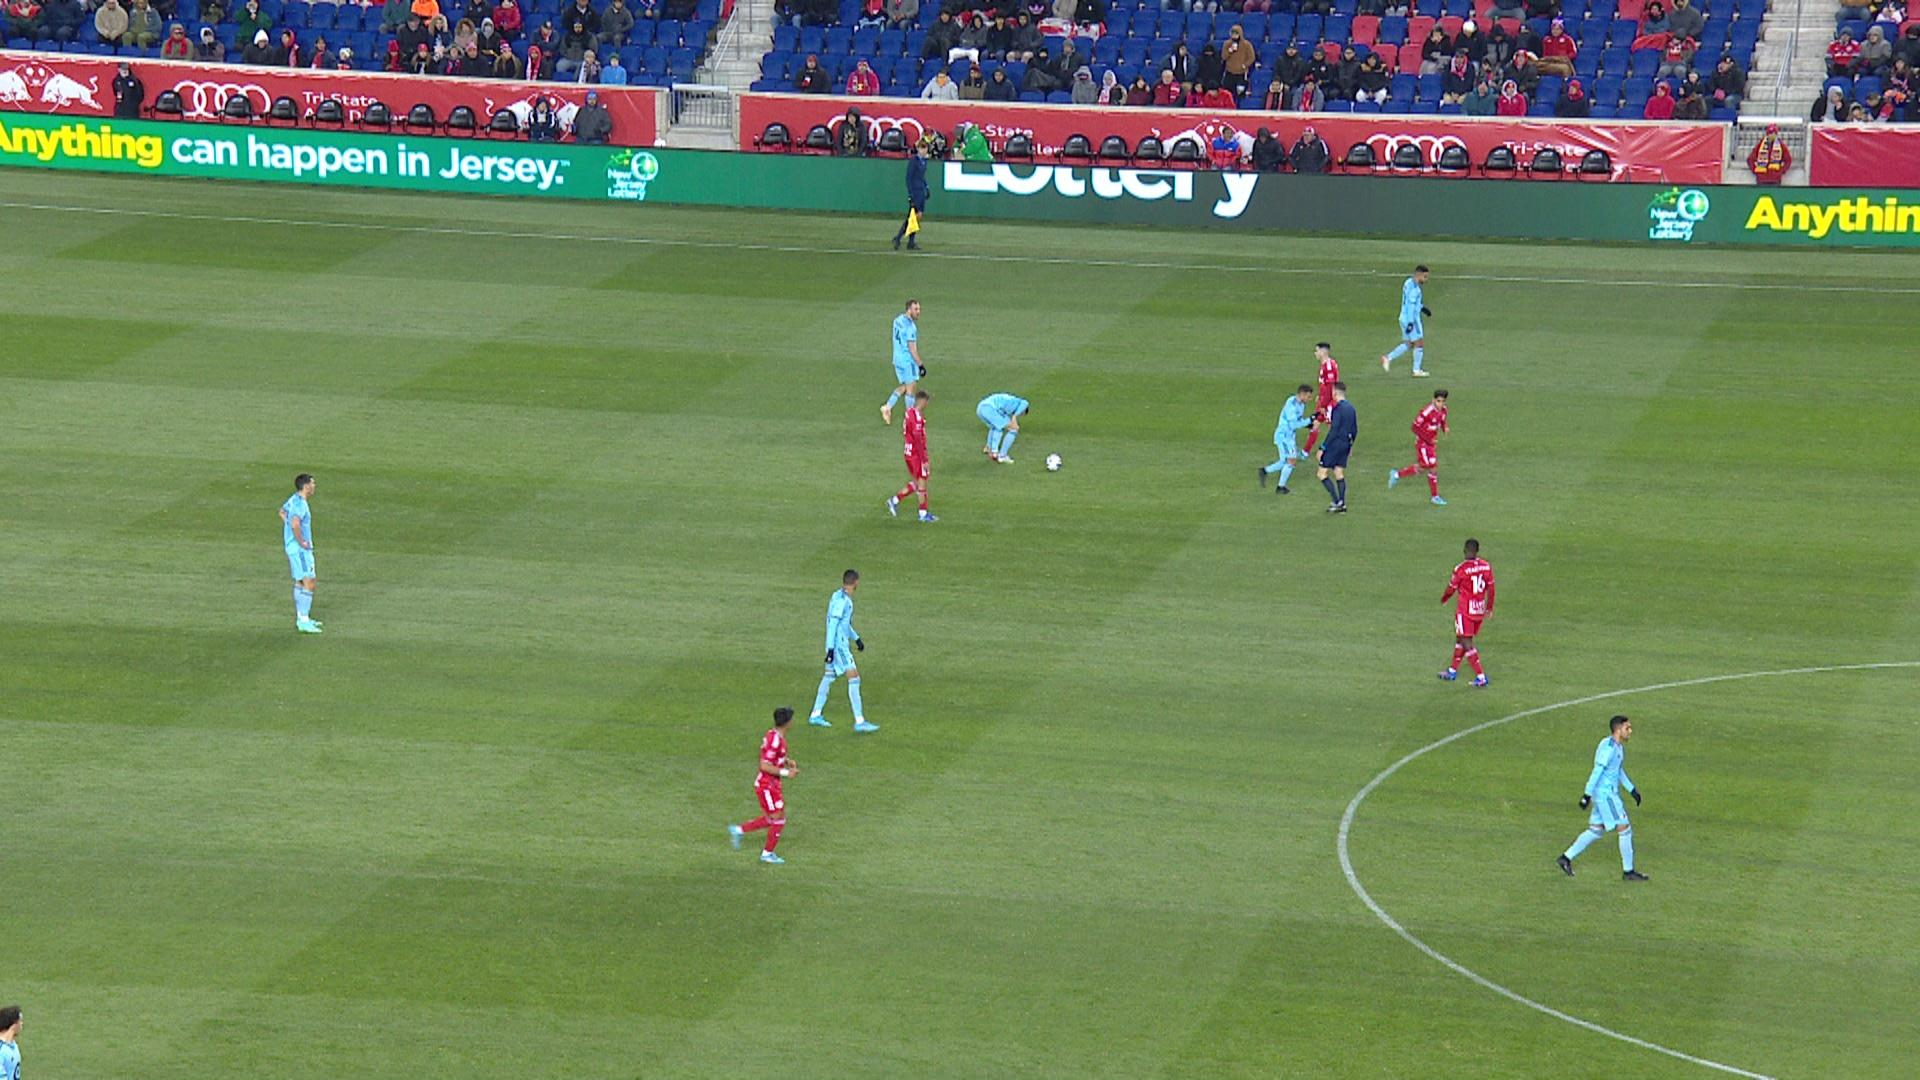football: (1046, 452, 1062, 472)
